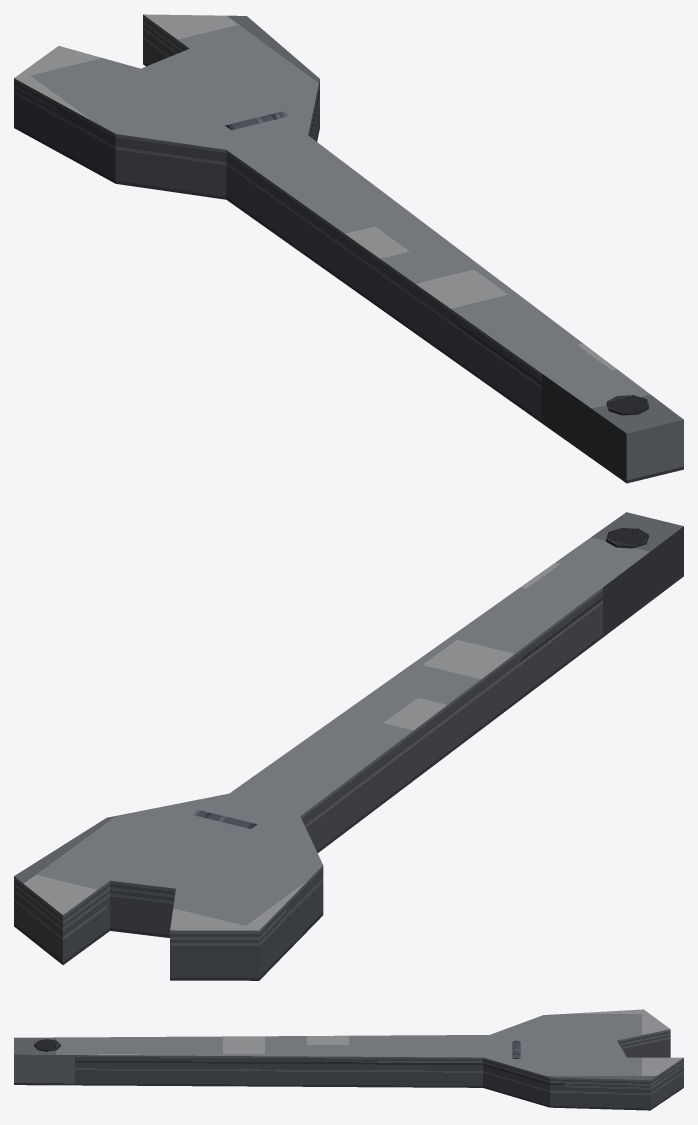
File: INV_AdjustableWrench.glb
The picture shows the model from 3 angles, top to bottom: view 1: azimuth 30°, elevation 25°; view 2: azimuth 150°, elevation 25°; view 3: azimuth 270°, elevation 25°; orthographic projection. The views are drawn at different scales.
Parts seen in each view (by area): view 1: INV_AdjustableWrench_Mesh; view 2: INV_AdjustableWrench_Mesh; view 3: INV_AdjustableWrench_Mesh.
Boxes of the visible parts, <box> form: INV_AdjustableWrench_Mesh: <box>14,14,683,483</box>; INV_AdjustableWrench_Mesh: <box>14,512,683,980</box>; INV_AdjustableWrench_Mesh: <box>14,1009,683,1110</box>.
Size of what is drawn, in the model's own units: 0.05 by 0.011 by 0.2.
1 material, 1 textured.
